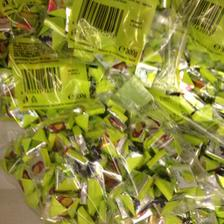Suessigkeit: (9, 96, 199, 220), (51, 0, 220, 76)
